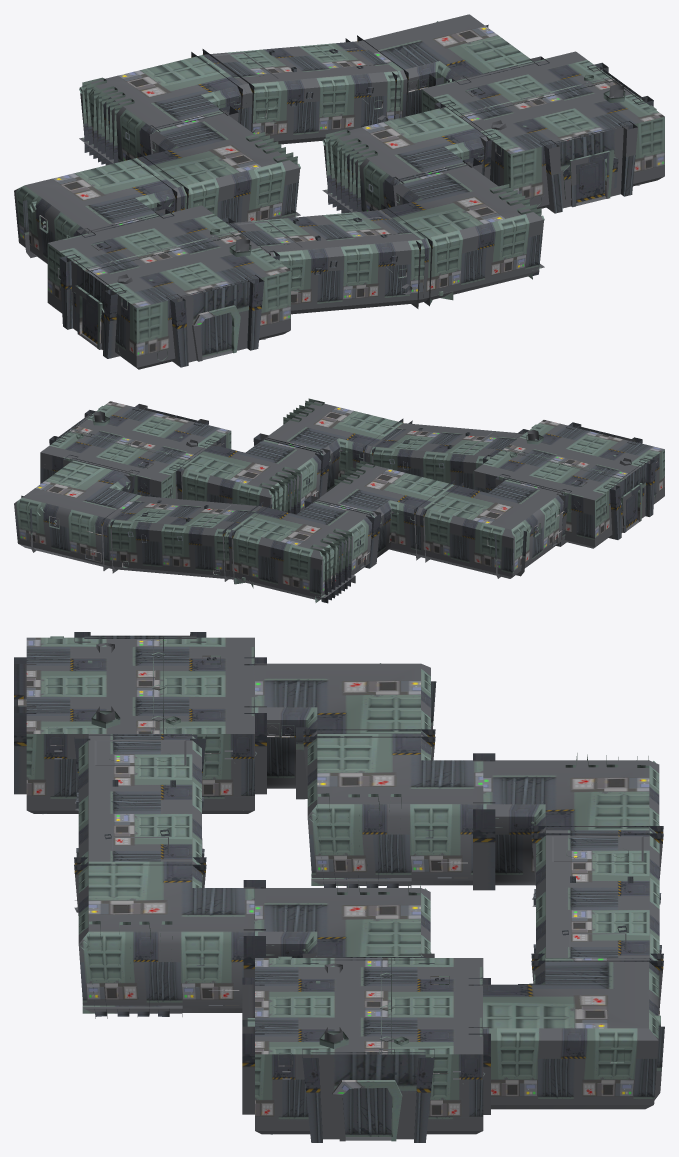
Rendered from Combined_Mesh_root_scene__0_a34a996a__zombies2_diffuse_06_4771cff4_c1f257.obj.
The picture shows the model from 3 angles, top to bottom: view 1: azimuth 30°, elevation 25°; view 2: azimuth 150°, elevation 25°; view 3: azimuth 270°, elevation 25°; orthographic projection. The views are drawn at different scales.
Size of the model in its own units: 81.89 by 12.64 by 57.04.
170 materials, 170 textured.
